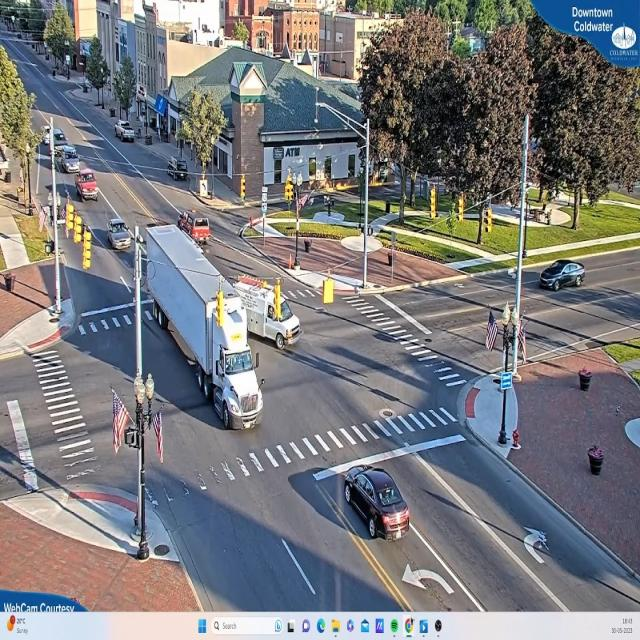car: (344, 467, 410, 542), (541, 261, 585, 291), (108, 217, 134, 249), (78, 174, 100, 203), (117, 122, 137, 144)
truck: (203, 283, 265, 430), (247, 272, 311, 349)
